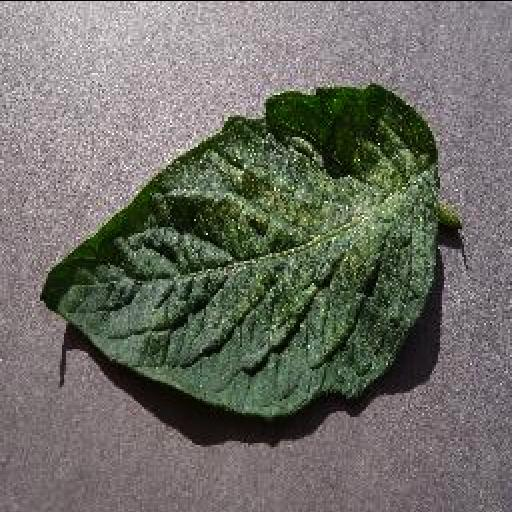disease_tomato: (36, 82, 438, 418)
